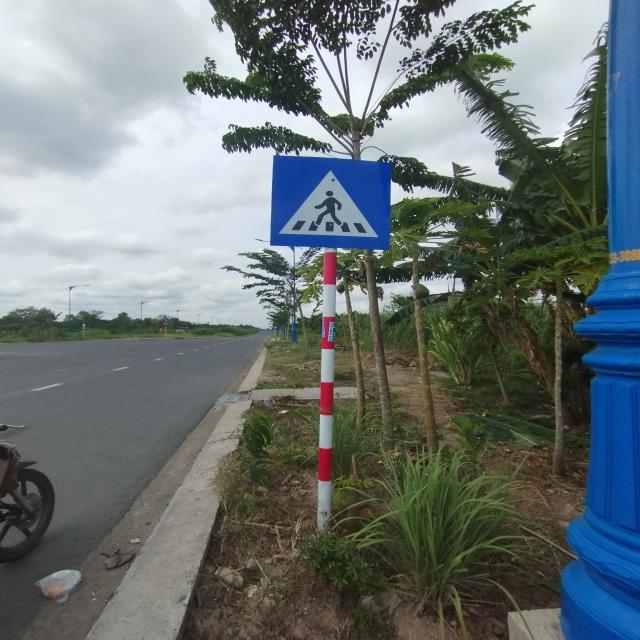Giao_Nhau_Duong_Uu_Tien: (271, 156, 391, 249)
